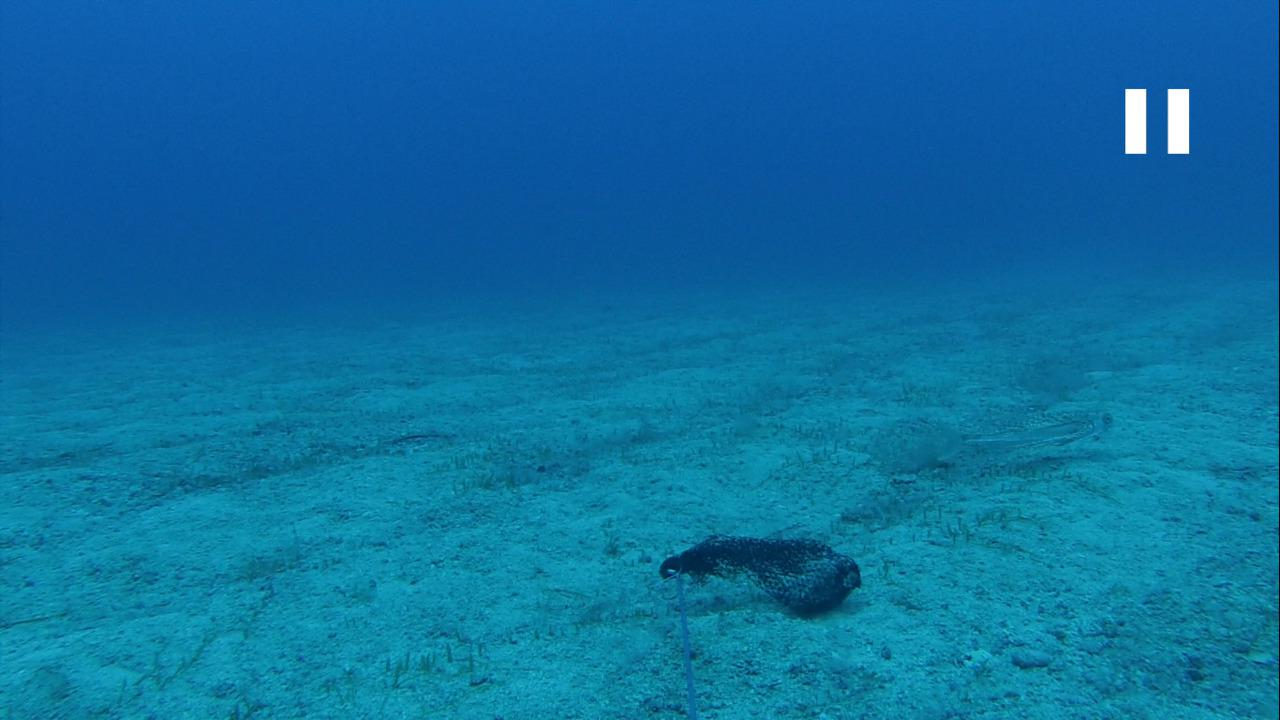dactylopterus: (916, 402, 1120, 470)
